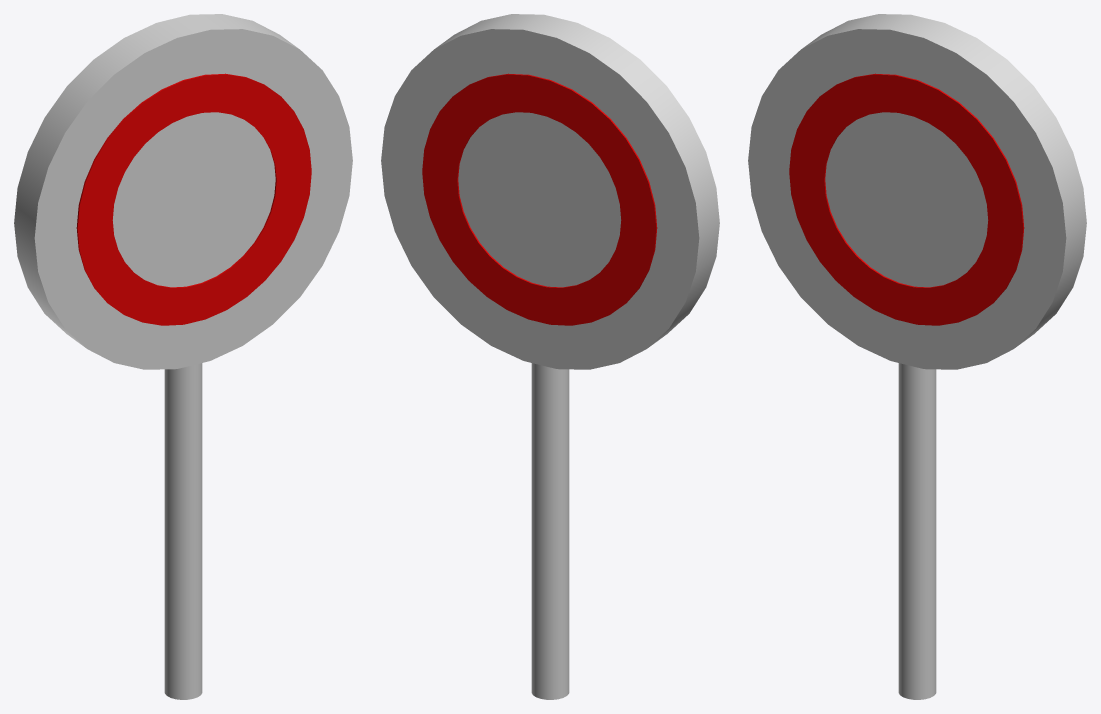
Rendered from marubatu.fbx.
3 views of the same model, side by side, from view 1: azimuth 30°, elevation 25°; view 2: azimuth 150°, elevation 25°; view 3: azimuth 330°, elevation 25° (orthographic).
Visible parts, largest first — view 1: pCylinder3; view 2: pCylinder3; view 3: pCylinder3.
Boxes of the visible parts, x1,y1,x2,y2 form: pCylinder3: (14, 14, 352, 699); pCylinder3: (381, 14, 719, 699); pCylinder3: (748, 14, 1086, 699).
Size of the model in its own units: 1.41 by 2.82 by 0.1727.
